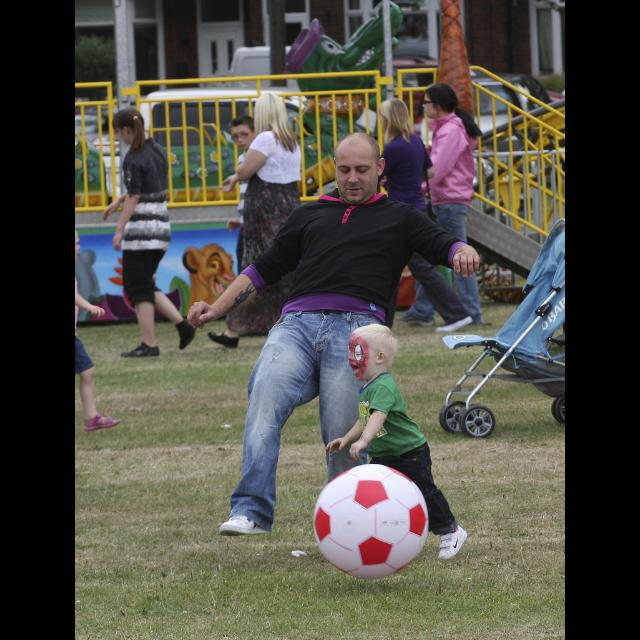Football: (310, 464, 428, 580)
